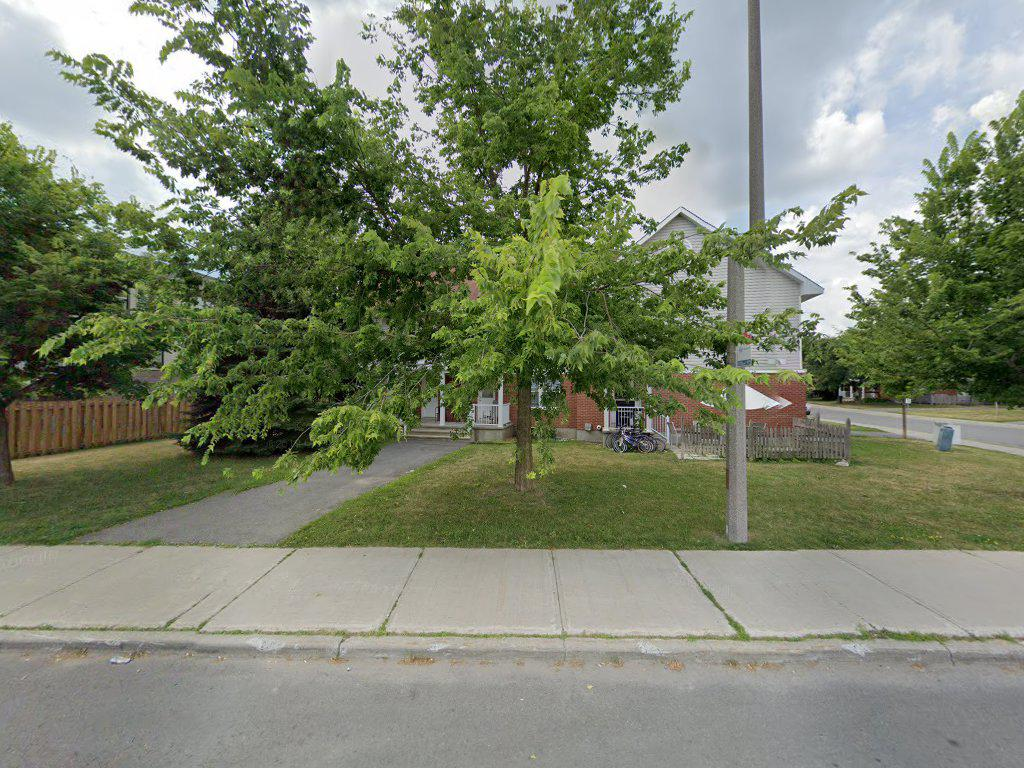trunk: (511, 370, 544, 485)
